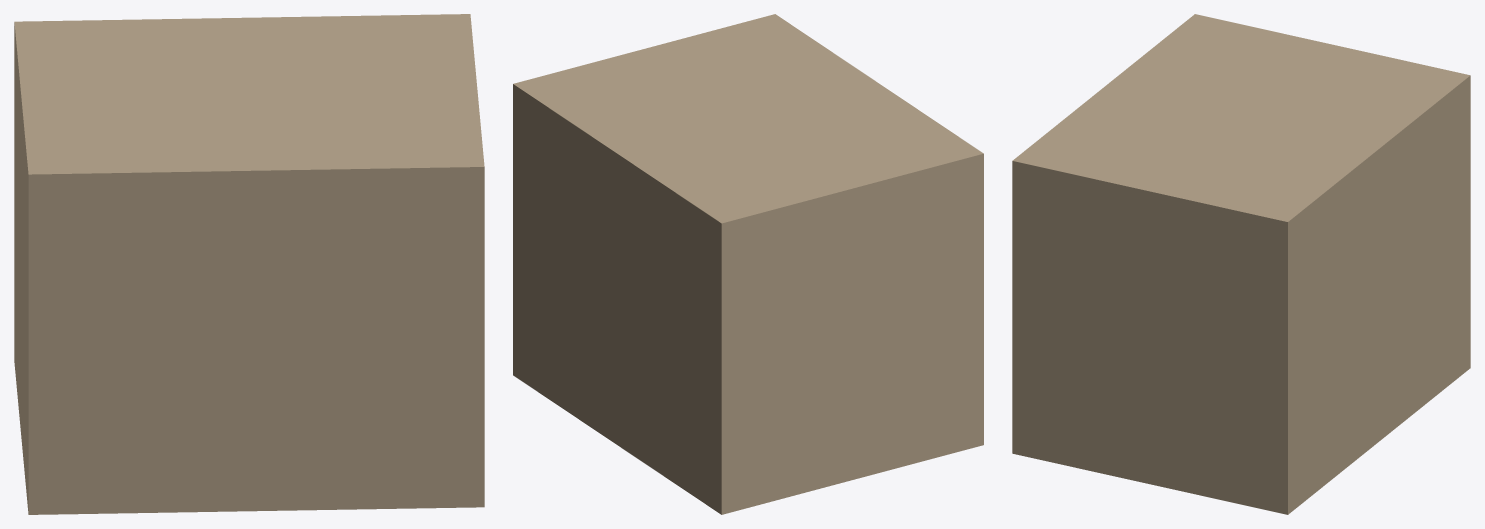
File: bld_101374824.dae
The picture shows the model from 3 angles, left to right: view 1: azimuth 30°, elevation 25°; view 2: azimuth 150°, elevation 25°; view 3: azimuth 270°, elevation 25°; orthographic projection. The views are drawn at different scales.
Visible parts, largest first — view 1: bld_101374824; view 2: bld_101374824; view 3: bld_101374824.
Part boxes in pixels (<box>): bld_101374824: <box>14,14,484,514</box>; bld_101374824: <box>513,14,983,514</box>; bld_101374824: <box>1012,14,1470,514</box>.
Size of the model in its own units: 12.2 by 11.35 by 8.
